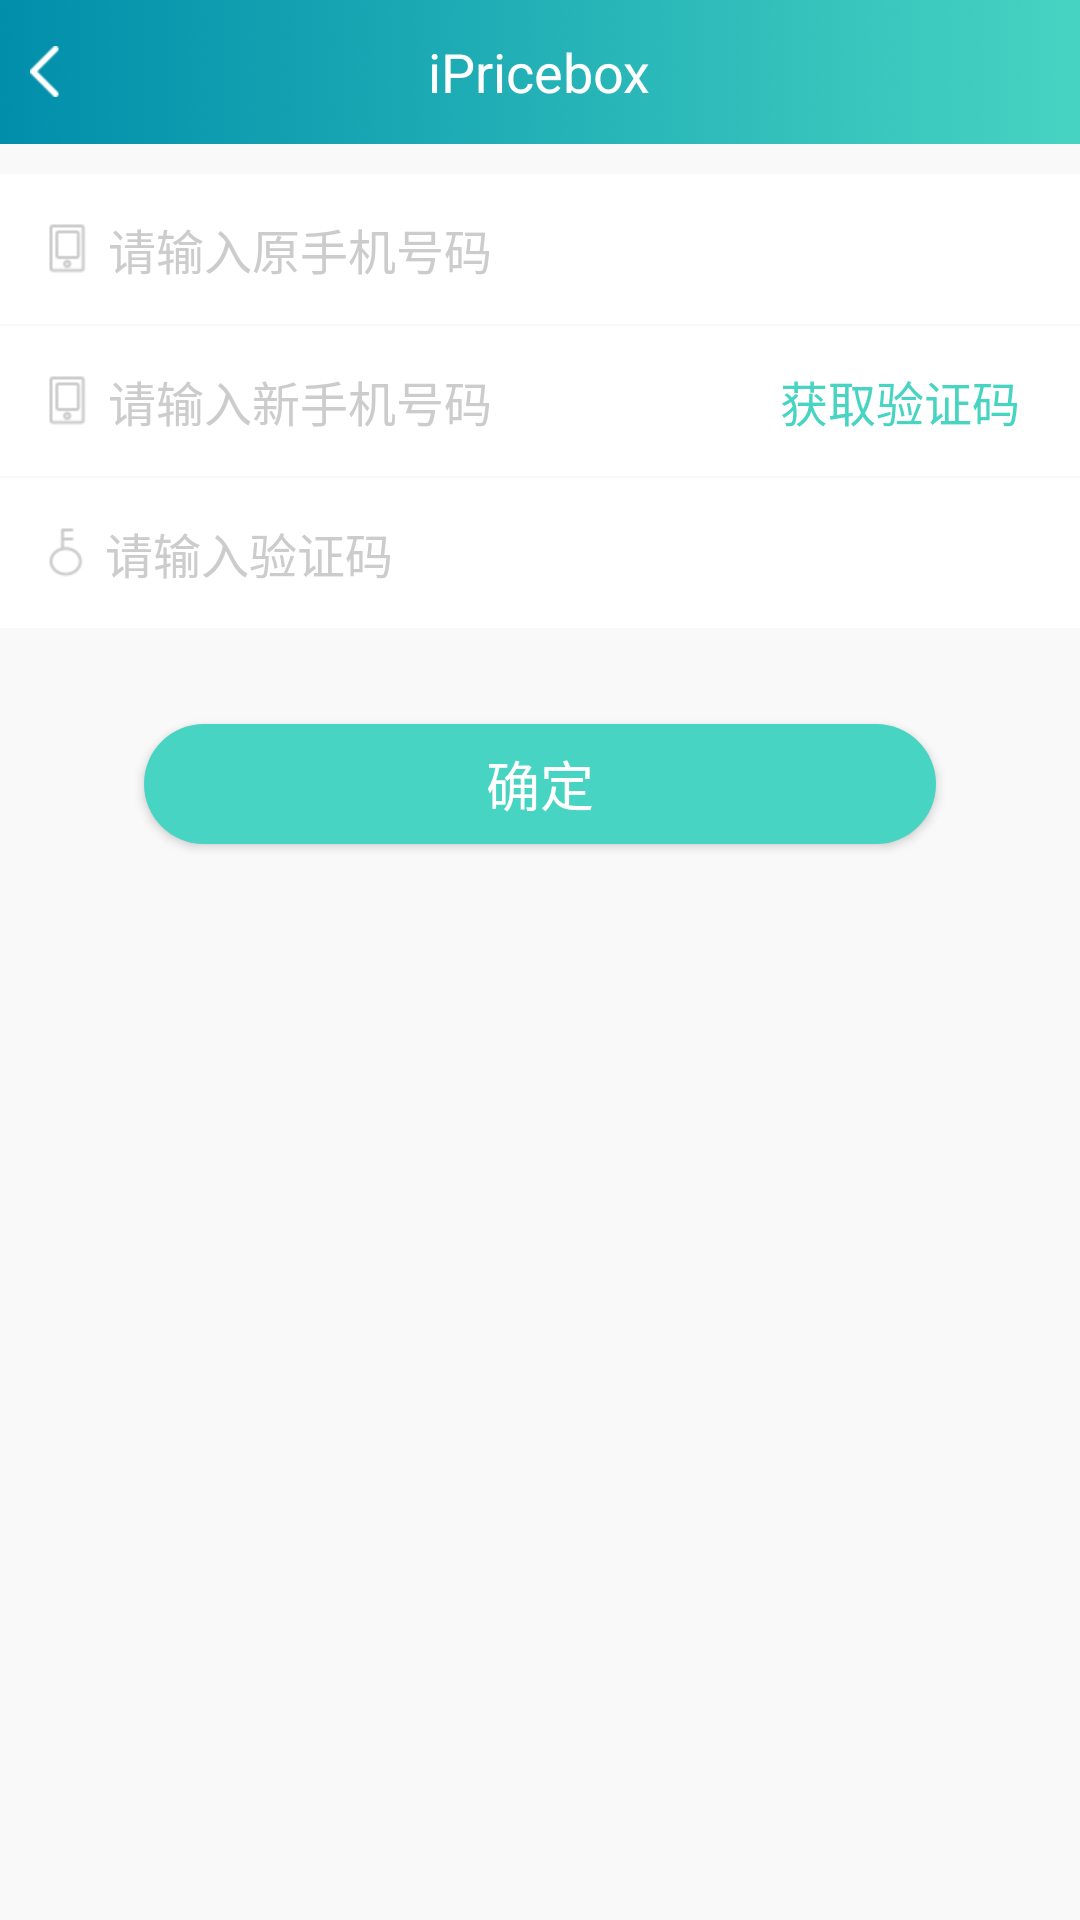

Where icons sit on this 1080 × 1920 app screen, as box=[x1, y1, x2, y2]:
back: box=[30, 46, 59, 97]
